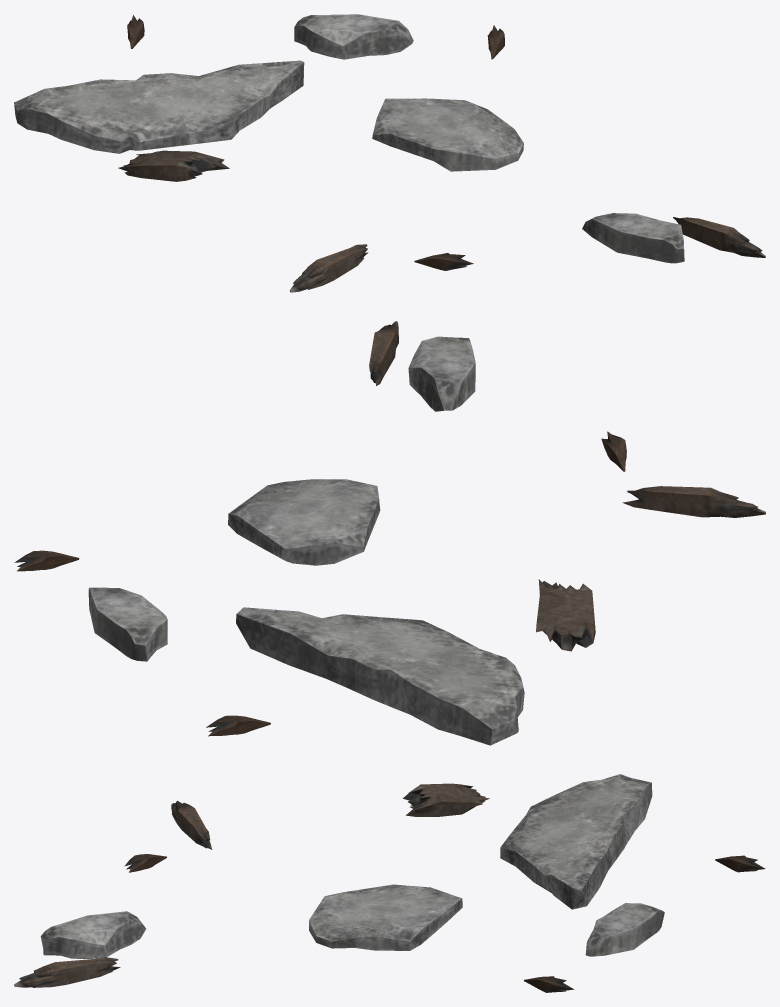
Rendered from Rubble.fbx.
The picture shows the model from 3 angles, top to bottom: view 1: azimuth 30°, elevation 25°; view 2: azimuth 150°, elevation 25°; view 3: azimuth 270°, elevation 25°; orthographic projection. The views are drawn at different scales.
Parts seen in each view (by area): view 1: SM_Rubble_LOD0; view 2: SM_Rubble_LOD0; view 3: SM_Rubble_LOD0.
Part boxes in pixels (x1=…): SM_Rubble_LOD0: x1=14, y1=14, x2=765, y2=292; SM_Rubble_LOD0: x1=14, y1=321, x2=765, y2=745; SM_Rubble_LOD0: x1=14, y1=774, x2=765, y2=992.
Bounding box in the file's own units: 133 × 9.51 × 202.
